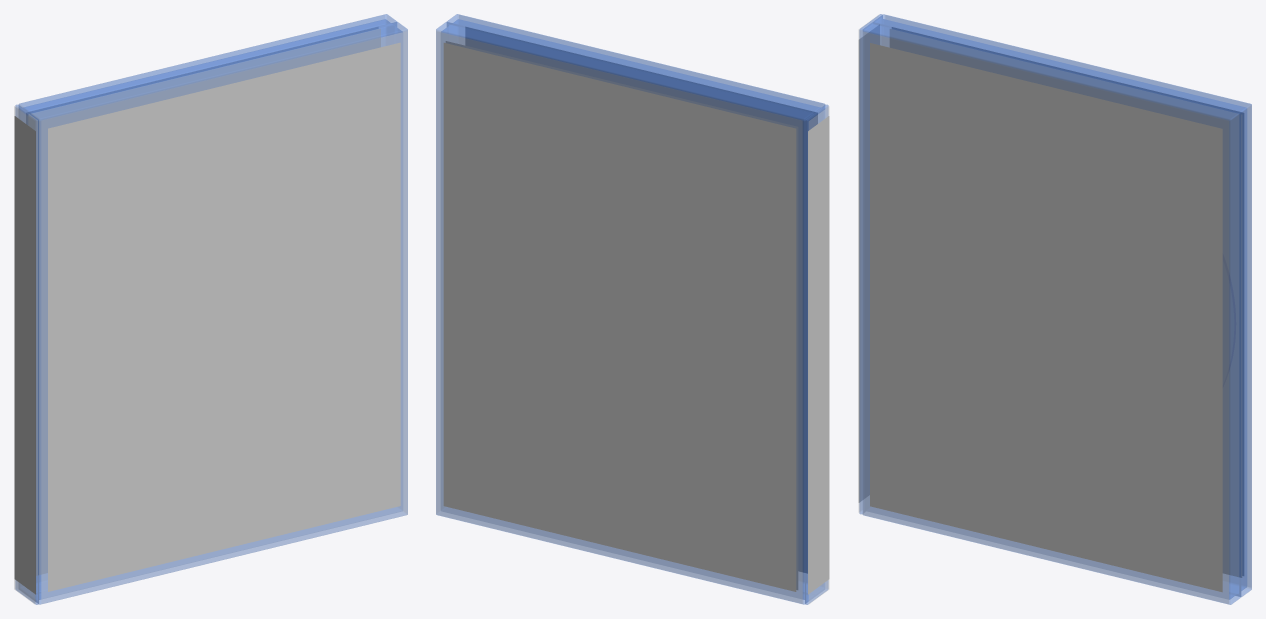
Rendered from case.glb.
3 views of the same model, side by side, from view 1: azimuth 30°, elevation 25°; view 2: azimuth 150°, elevation 25°; view 3: azimuth 330°, elevation 25° (orthographic).
Parts seen in each view (by area): view 1: FilmFront, PrintFront, Cover, InnerTray, PrintSpine, FilmSpine, Tray, Spine, PrintBack; view 2: FilmBack, PrintBack, Tray, PrintFront, Cover, PrintSpine, FilmSpine, Spine, InnerTray; view 3: FilmFront, PrintFront, Cover, InnerTray, Tray, PrintSpine, Spine, PrintBack, Disc, FilmSpine.
Part boxes in pixels (left/top/right/bottom): FilmFront: left=41, top=32, right=407, bottom=603; PrintFront: left=48, top=42, right=400, bottom=591; Cover: left=29, top=22, right=407, bottom=604; InnerTray: left=28, top=28, right=380, bottom=575; PrintSpine: left=14, top=116, right=35, bottom=594; FilmSpine: left=14, top=106, right=34, bottom=603; Tray: left=19, top=14, right=396, bottom=592; Spine: left=15, top=105, right=38, bottom=604; PrintBack: left=26, top=27, right=378, bottom=124; FilmBack: left=436, top=32, right=802, bottom=603; PrintBack: left=443, top=42, right=796, bottom=591; Tray: left=436, top=22, right=814, bottom=604; PrintFront: left=465, top=27, right=817, bottom=573; Cover: left=447, top=14, right=824, bottom=592; PrintSpine: left=808, top=116, right=829, bottom=594; FilmSpine: left=809, top=106, right=829, bottom=603; Spine: left=805, top=105, right=828, bottom=604; InnerTray: left=446, top=41, right=797, bottom=589; FilmFront: left=863, top=32, right=1228, bottom=603; PrintFront: left=870, top=43, right=1222, bottom=592; Cover: left=863, top=22, right=1241, bottom=604; InnerTray: left=889, top=29, right=1242, bottom=577; Tray: left=873, top=14, right=1251, bottom=596; PrintSpine: left=858, top=25, right=879, bottom=502; Spine: left=859, top=14, right=882, bottom=513; PrintBack: left=892, top=27, right=1243, bottom=575; Disc: left=1223, top=254, right=1236, bottom=386; FilmSpine: left=858, top=15, right=878, bottom=512.
Bounding box in the file's own units: 1.36 × 1.7 × 0.1427.
